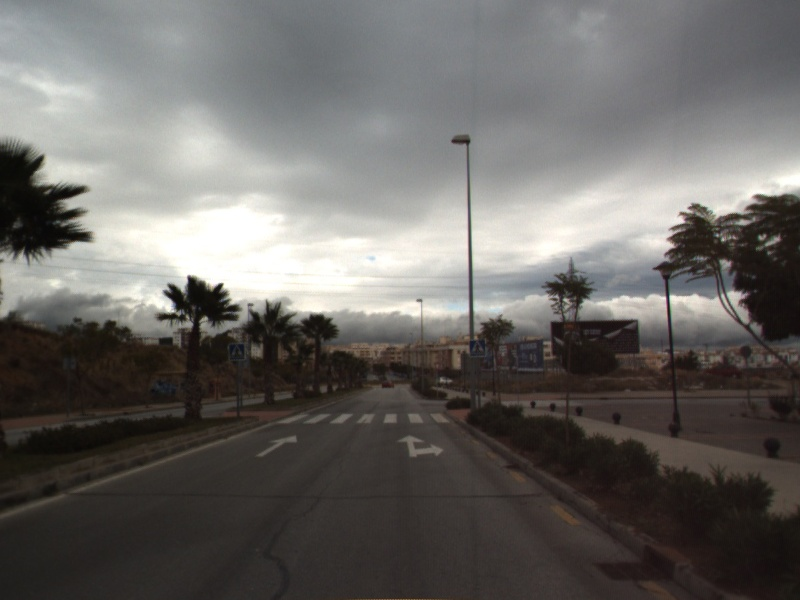STRAIGHT: (254, 433, 299, 459)
STRAIGHT_RIGHT: (394, 433, 446, 459)
